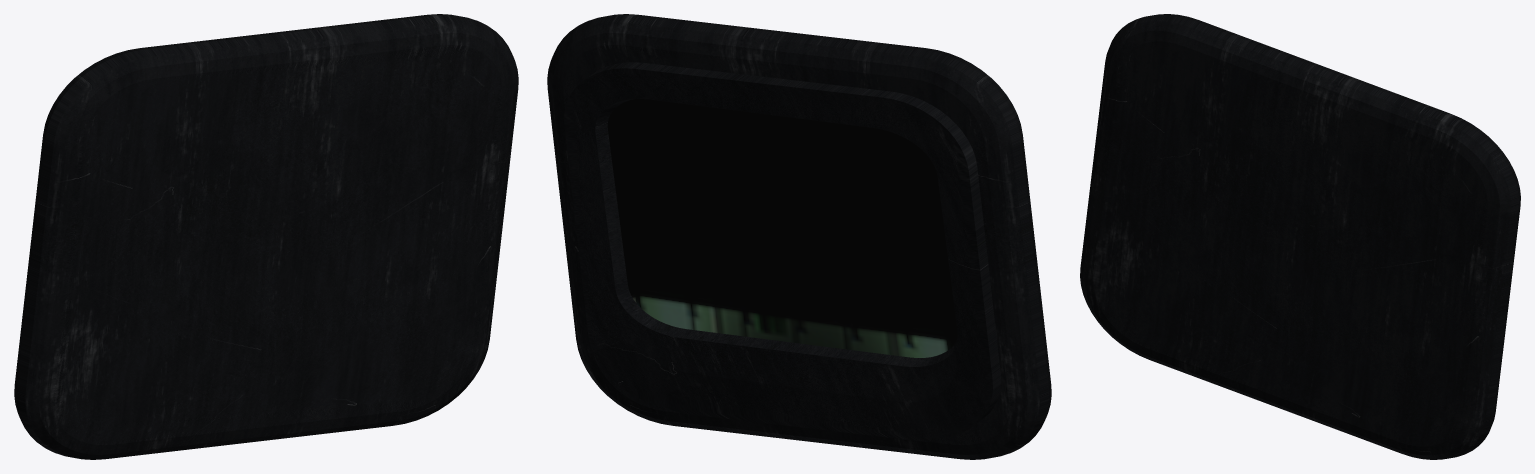
The model's file is plane_menu.glb.
3 renders of one model, left to right at view 1: azimuth 30°, elevation 25°; view 2: azimuth 150°, elevation 25°; view 3: azimuth 330°, elevation 25°, orthographic. The views are drawn at different scales.
Visible parts, largest first — view 1: Plane.006; view 2: Plane.007, Plane.004, Plane.006; view 3: Plane.006.
Part boxes in pixels (bbox=[...]): Plane.006: bbox=[14, 14, 518, 459]; Plane.007: bbox=[607, 99, 957, 357]; Plane.004: bbox=[564, 62, 1001, 442]; Plane.006: bbox=[547, 14, 1051, 459]; Plane.006: bbox=[1080, 14, 1520, 459].
Size of the model in its own units: 3.17 by 2.65 by 0.3323.
Materials: 2 (2 with a texture image).
